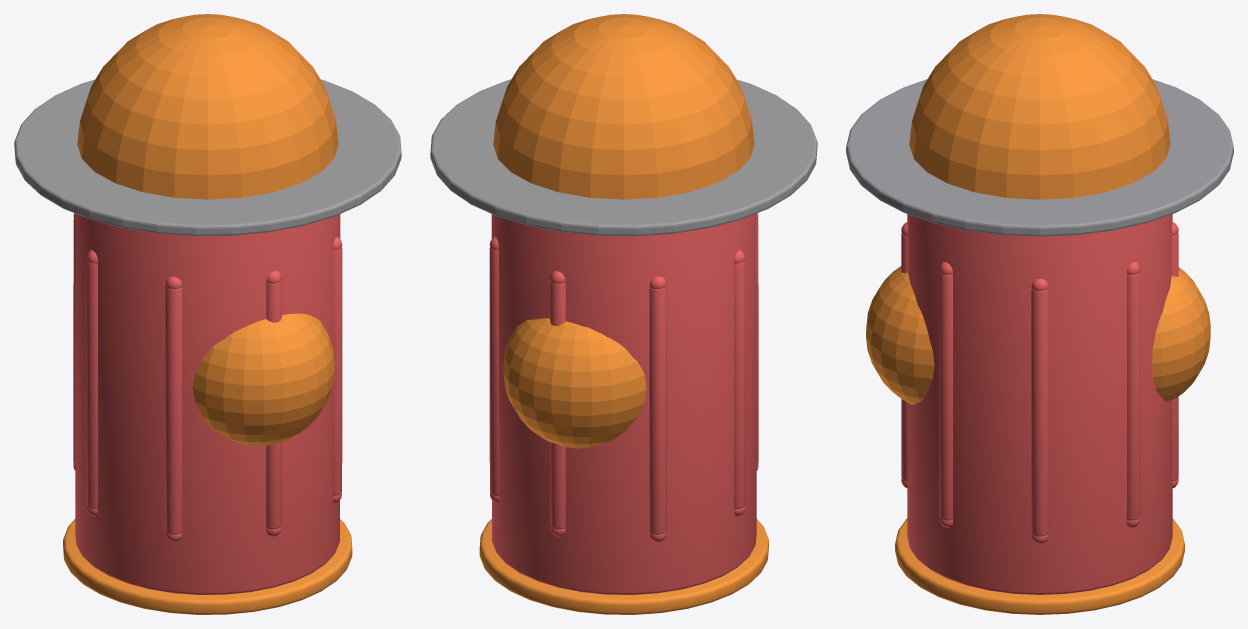
Rendered from Hindrante.glb.
3 views of the same model, side by side, from view 1: azimuth 30°, elevation 25°; view 2: azimuth 150°, elevation 25°; view 3: azimuth 270°, elevation 25° (orthographic).
Parts seen in each view (by area): view 1: Main_Barrel, Top_Dome, Base_Plate, Top_Dome.002, Top_Collar; view 2: Main_Barrel, Top_Dome, Base_Plate, Top_Dome.001, Top_Collar; view 3: Main_Barrel, Top_Dome, Base_Plate, Top_Collar, Top_Dome.002, Top_Dome.001.
Boxes of the visible parts, x1,y1,x2,y2 form: Main_Barrel: (73, 213, 342, 594); Top_Dome: (77, 14, 338, 199); Base_Plate: (14, 79, 401, 236); Top_Dome.002: (192, 313, 334, 446); Top_Collar: (63, 519, 352, 614); Main_Barrel: (489, 213, 758, 594); Top_Dome: (493, 14, 754, 199); Base_Plate: (430, 79, 817, 236); Top_Dome.001: (503, 318, 646, 448); Top_Collar: (479, 519, 768, 614); Main_Barrel: (901, 214, 1178, 594); Top_Dome: (909, 14, 1170, 199); Base_Plate: (846, 79, 1233, 236); Top_Collar: (895, 518, 1184, 614); Top_Dome.002: (866, 266, 934, 404); Top_Dome.001: (1152, 267, 1210, 402).
Size of the model in its own units: 1.9 by 2.86 by 1.9.
